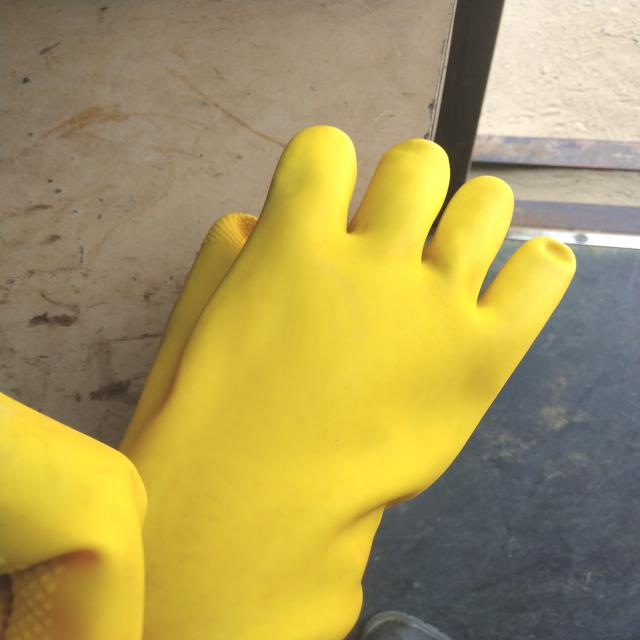glove: (116, 120, 584, 639), (3, 385, 149, 639)
